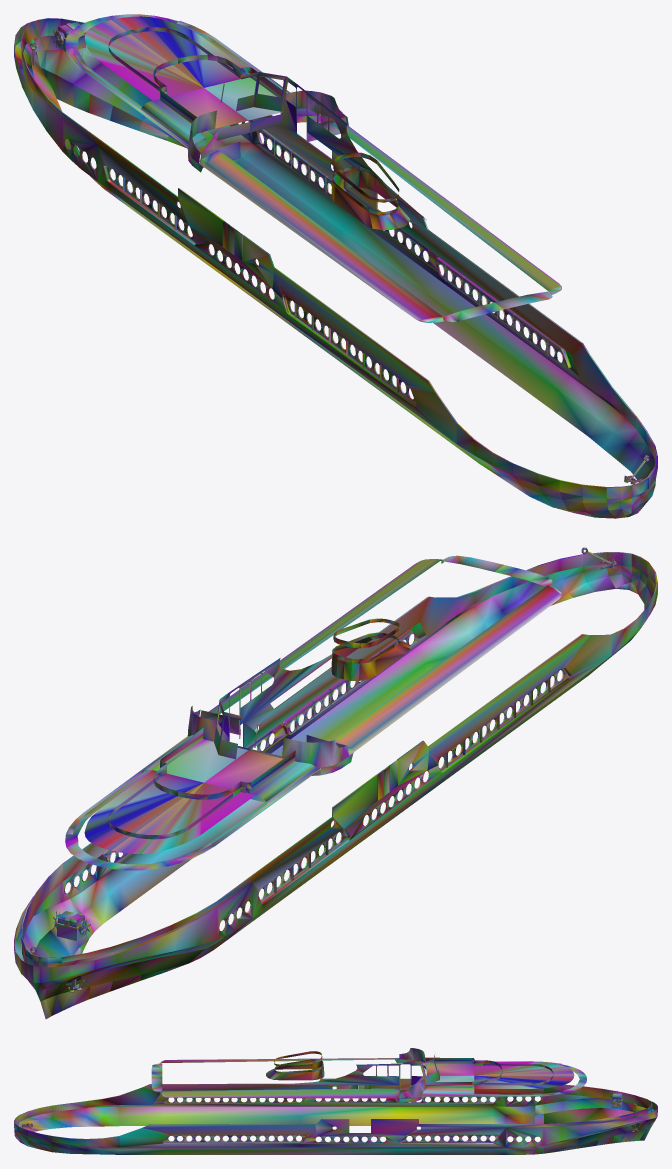
Rendered from Teplohod.fbx.
3 views of the same model, one above another, from view 1: azimuth 30°, elevation 25°; view 2: azimuth 150°, elevation 25°; view 3: azimuth 270°, elevation 25° (orthographic). The views are drawn at different scales.
Visible parts, largest first — view 1: boat_Standardmaterial_0; view 2: boat_Standardmaterial_0; view 3: boat_Standardmaterial_0.
Part boxes in pixels (x1,y1,x2,y2): boat_Standardmaterial_0: (14, 14, 657, 518); boat_Standardmaterial_0: (14, 547, 657, 1019); boat_Standardmaterial_0: (14, 1048, 657, 1154).
Size of the model in its own units: 8.53 by 8.4 by 56.98.
